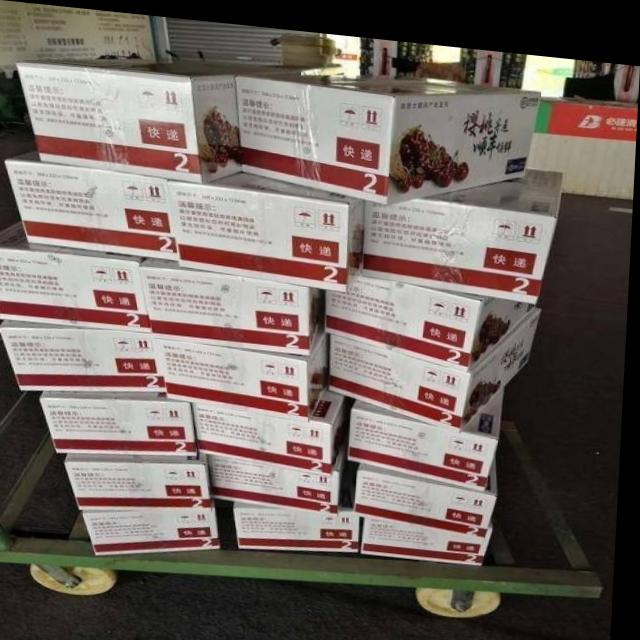box: (237, 64, 543, 197), (16, 55, 312, 179), (331, 295, 543, 424), (364, 158, 565, 294), (170, 167, 366, 283), (328, 269, 538, 361), (4, 150, 180, 257), (142, 255, 328, 349), (0, 220, 155, 330), (351, 377, 506, 480), (157, 325, 334, 415), (196, 383, 350, 468), (212, 423, 351, 509), (358, 446, 503, 527), (2, 321, 170, 390), (44, 389, 203, 451), (69, 447, 217, 509), (239, 475, 365, 544), (88, 494, 225, 553), (367, 507, 499, 555)
